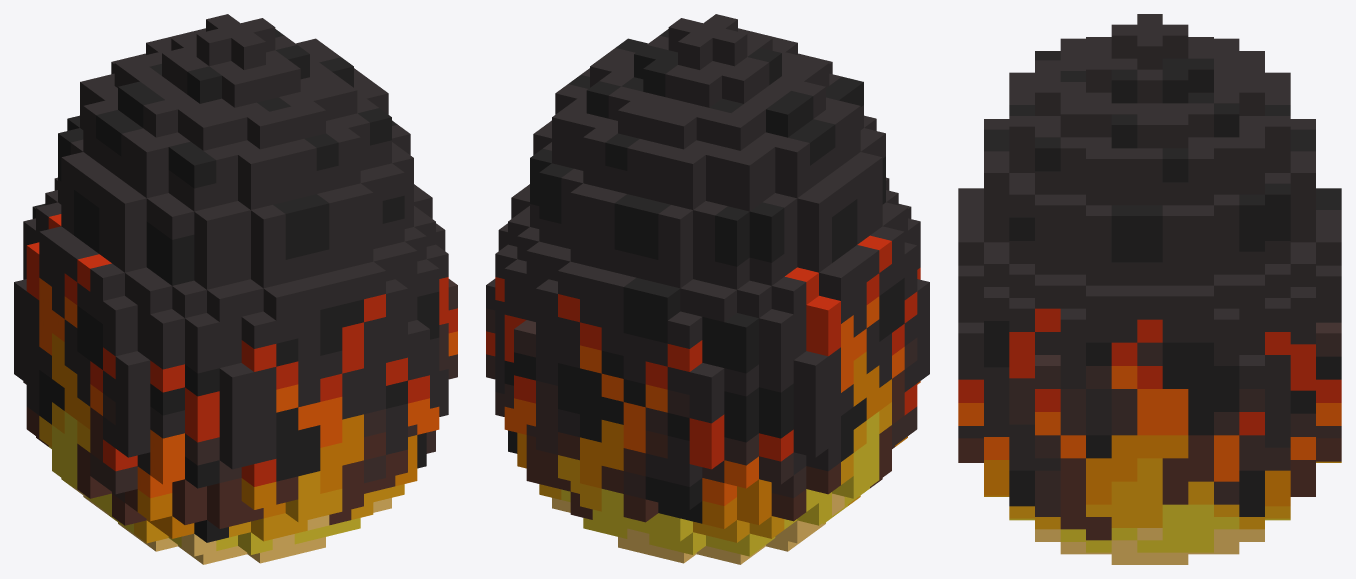
The model's file is vfx_meteor_01.fbx.
3 renders of one model, left to right at view 1: azimuth 30°, elevation 25°; view 2: azimuth 150°, elevation 25°; view 3: azimuth 270°, elevation 25°, orthographic.
Parts seen in each view (by area): view 1: model_C_M_ability_meteor_fire_obj; view 2: model_C_M_ability_meteor_fire_obj; view 3: model_C_M_ability_meteor_fire_obj.
Boxes of the visible parts, x1,y1,x2,y2 form: model_C_M_ability_meteor_fire_obj: (14, 14, 457, 564); model_C_M_ability_meteor_fire_obj: (486, 14, 929, 564); model_C_M_ability_meteor_fire_obj: (958, 14, 1341, 564).
Bounding box in the file's own units: 15 × 21 × 15.
